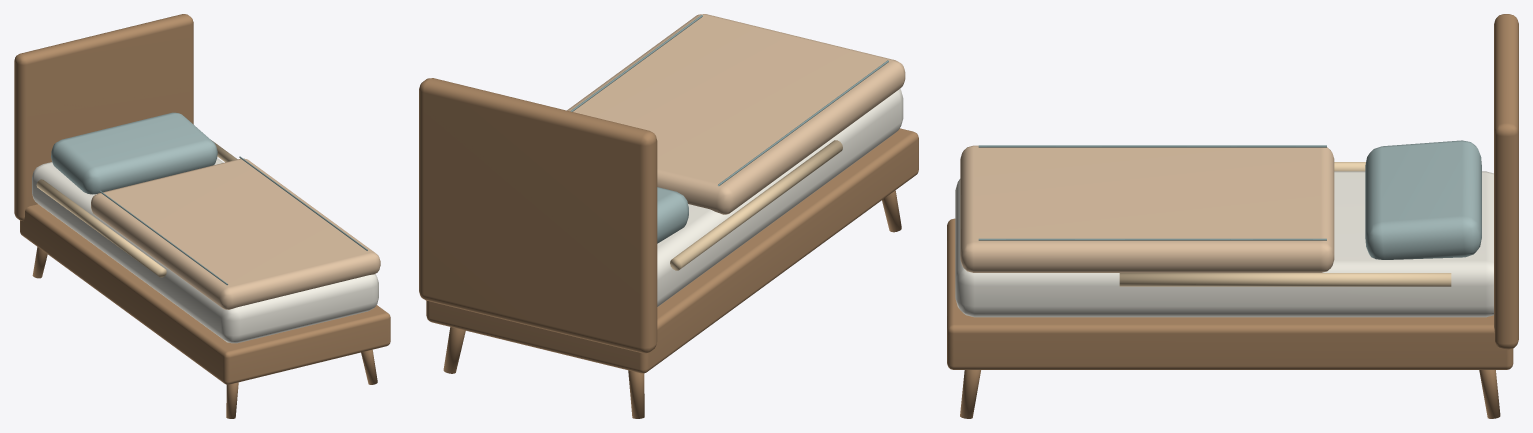
The model's file is atelier-children-s-bed.glb.
The picture shows the model from 3 angles, left to right: view 1: azimuth 30°, elevation 25°; view 2: azimuth 150°, elevation 25°; view 3: azimuth 270°, elevation 25°; orthographic projection. The views are drawn at different scales.
Visible parts, largest first — view 1: legs.030, bedding.007, ceramic.007, fabric.033, accent.009, seams.032; view 2: legs.030, bedding.007, ceramic.007, accent.009, fabric.033, seams.032; view 3: bedding.007, legs.030, ceramic.007, fabric.033, accent.009, seams.032.
Boxes of the visible parts, x1,y1,x2,y2 form: legs.030: [14, 14, 390, 418]; bedding.007: [91, 158, 380, 309]; ceramic.007: [32, 158, 378, 343]; fabric.033: [51, 112, 217, 194]; accent.009: [36, 140, 237, 277]; seams.032: [99, 156, 367, 285]; legs.030: [419, 78, 918, 418]; bedding.007: [567, 14, 905, 214]; ceramic.007: [657, 89, 903, 306]; accent.009: [670, 140, 842, 270]; fabric.033: [657, 187, 688, 243]; seams.032: [570, 15, 888, 186]; bedding.007: [960, 145, 1334, 272]; legs.030: [947, 14, 1518, 418]; ceramic.007: [955, 171, 1493, 317]; fabric.033: [1365, 140, 1481, 259]; accent.009: [1119, 162, 1451, 286]; seams.032: [978, 145, 1326, 240].
Size of the model in its own units: 1 by 1.2 by 2.07.
